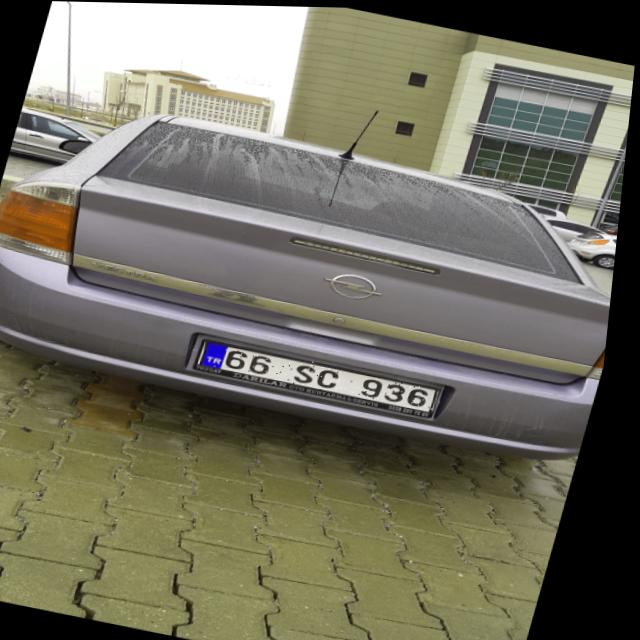license_plate: (201, 339, 451, 411)
